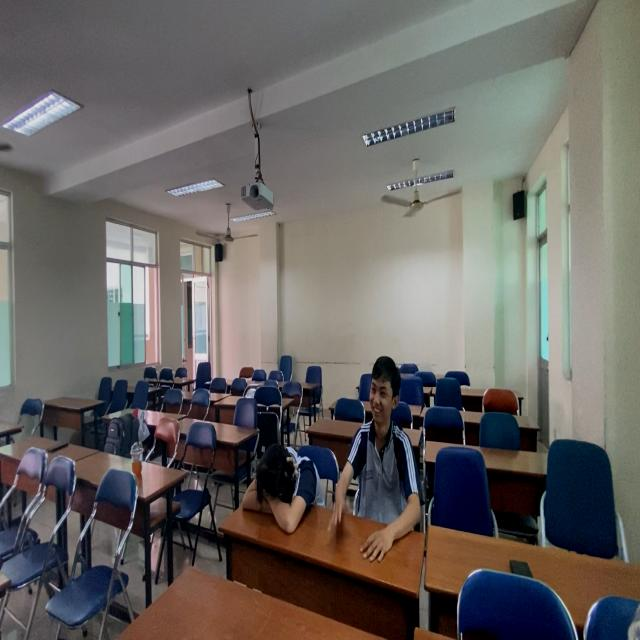sleep: (237, 438, 327, 532)
